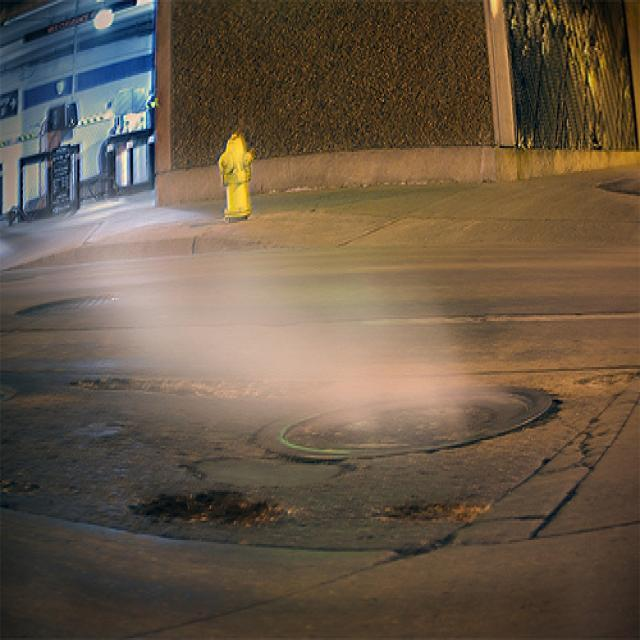fire_hydrant: (218, 133, 255, 219)
